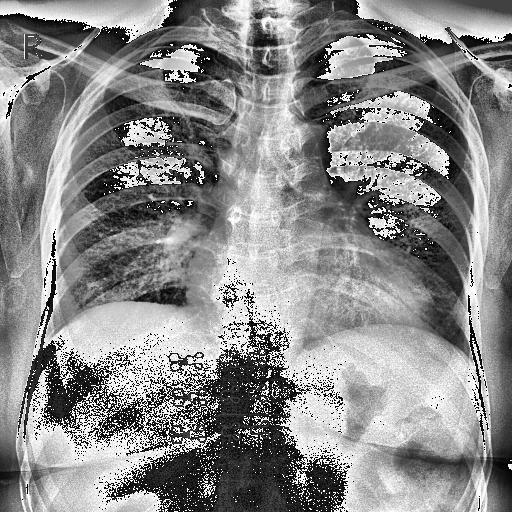0- Aortic enlargement: (274, 118, 334, 170)
3- Cardiomegaly: (186, 240, 432, 326), (186, 260, 428, 333), (184, 272, 424, 322)
5- ILD: (48, 65, 232, 325), (310, 74, 472, 354)
